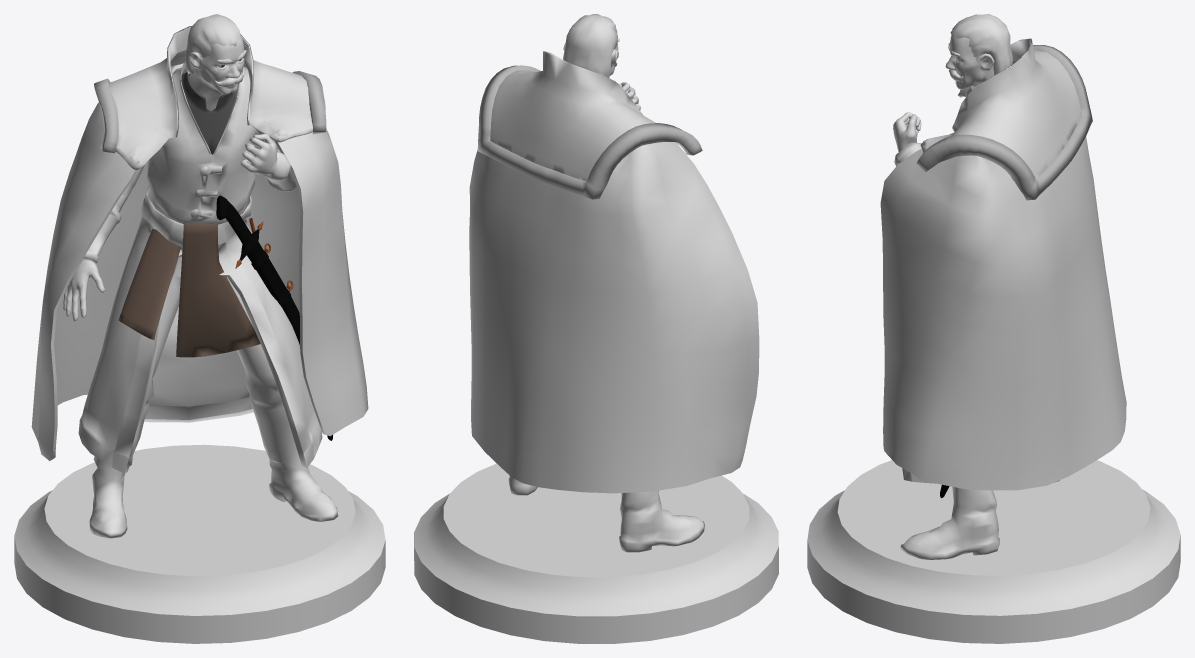
The model's file is Figurka_magnat.fbx.
The picture shows the model from 3 angles, left to right: view 1: azimuth 30°, elevation 25°; view 2: azimuth 150°, elevation 25°; view 3: azimuth 270°, elevation 25°; orthographic projection.
Visible parts, largest first — view 1: Figurka_magnat; view 2: Figurka_magnat; view 3: Figurka_magnat.
Part boxes in pixels (bbox=[...]): Figurka_magnat: bbox=[14, 14, 385, 643]; Figurka_magnat: bbox=[414, 14, 778, 643]; Figurka_magnat: bbox=[807, 14, 1180, 643].
Bounding box in the file's own units: 3.04 × 4.97 × 3.04.
